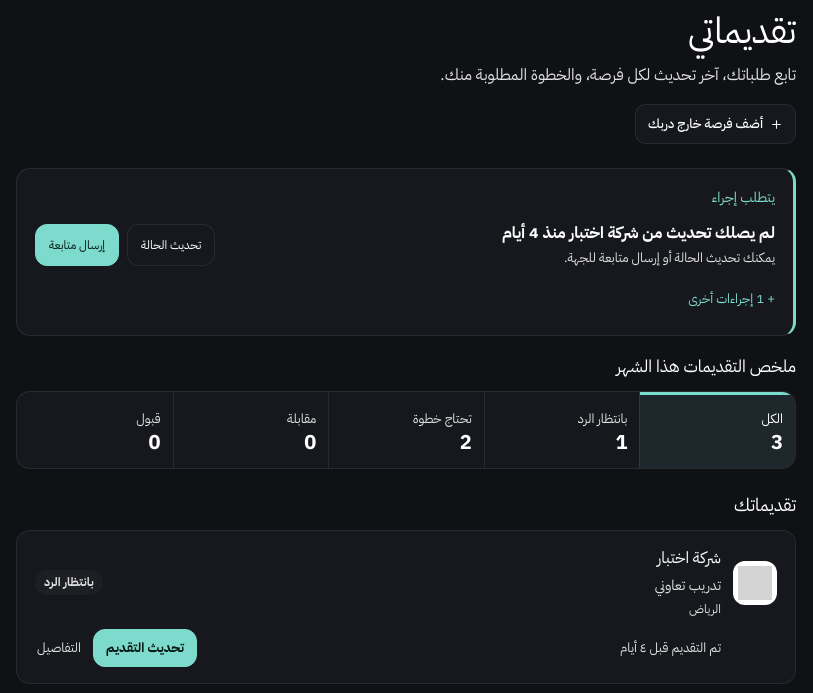
Test: the action card leads the journey and keeps other actions in a disclosure
The image size is (813, 693).
Check: the text "لم يصلك تحديث من شركة اختبار منذ 4 أيام" is shown once, box [502,221,775,245]
Check: the button "تحديث الحالة" is shown, box [127,224,215,266]
Click the button "+ 1 إجراءات أخرى" at (732, 299), box [688,281,775,317]
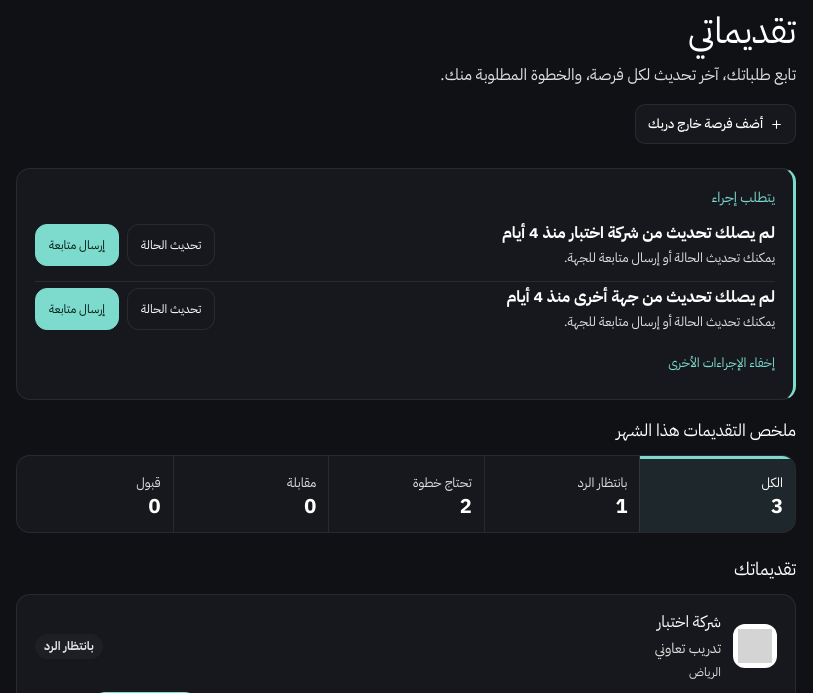
Check: the text "لم يصلك تحديث من شركة اختبار منذ 4 أيام" is shown 2 times, box [502,221,775,245]; [506,285,775,309]
